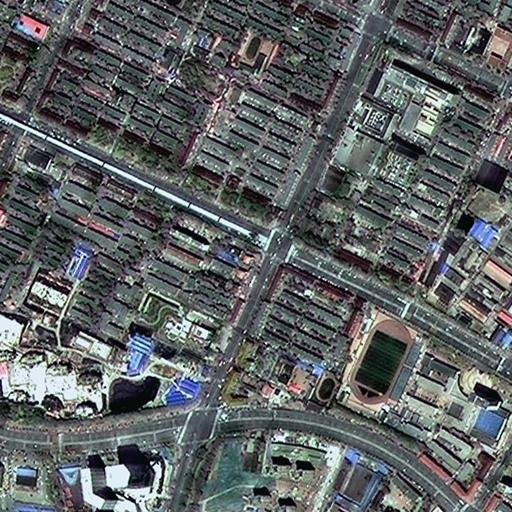school: (274, 359, 339, 407), (231, 27, 276, 79)
